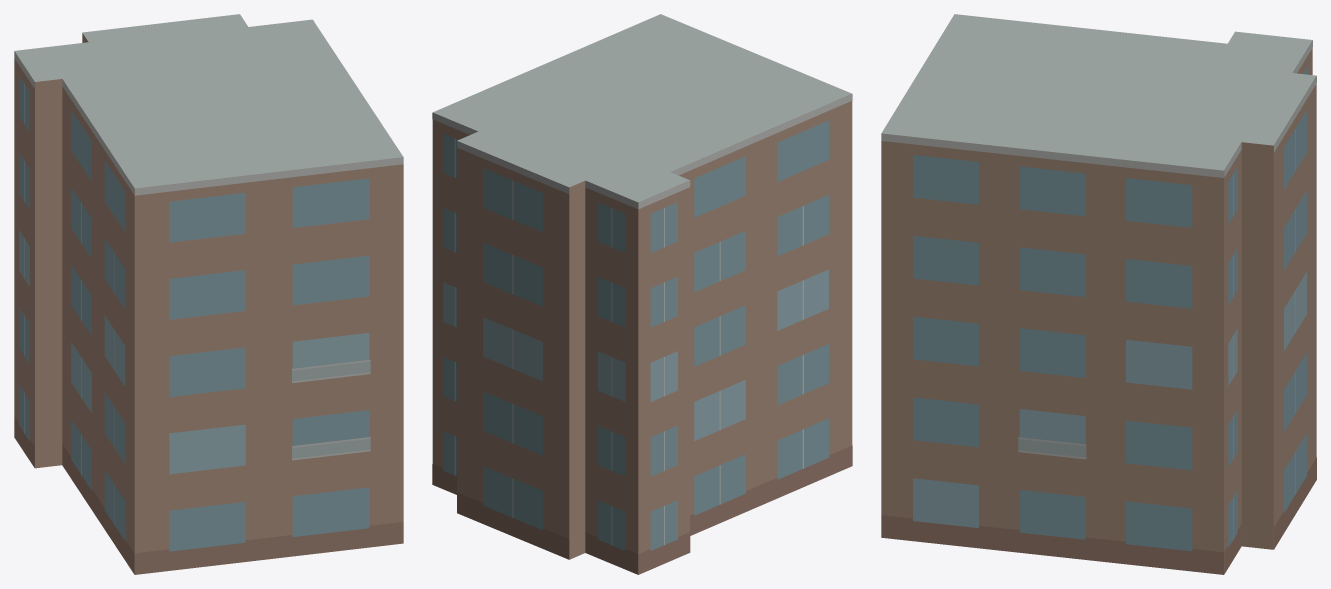
The model's file is survey-upis-32651948.glb.
3 renders of one model, left to right at view 1: azimuth 30°, elevation 25°; view 2: azimuth 150°, elevation 25°; view 3: azimuth 270°, elevation 25°, orthographic. The views are drawn at different scales.
Visible parts, largest first — view 1: survey-upis-32651948.tmp; view 2: survey-upis-32651948.tmp; view 3: survey-upis-32651948.tmp.
Part boxes in pixels (x1,y1,x2,y2): survey-upis-32651948.tmp: [14, 14, 403, 574]; survey-upis-32651948.tmp: [432, 14, 852, 574]; survey-upis-32651948.tmp: [881, 14, 1316, 574].
Size of the model in its own units: 11.02 by 13.25 by 12.95.
